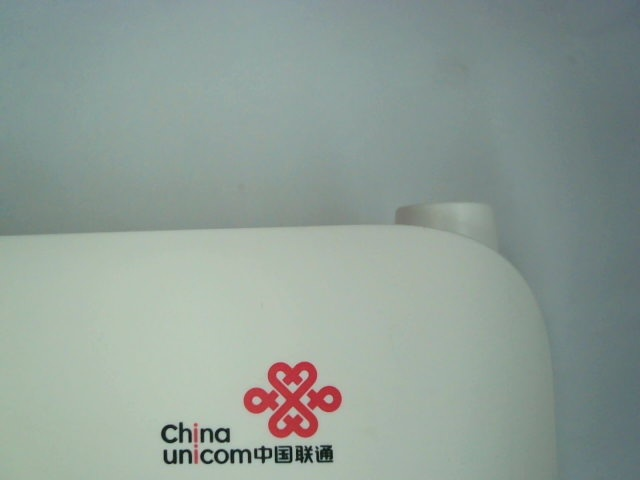AC_ChinaUnicom: (143, 358, 349, 468)
